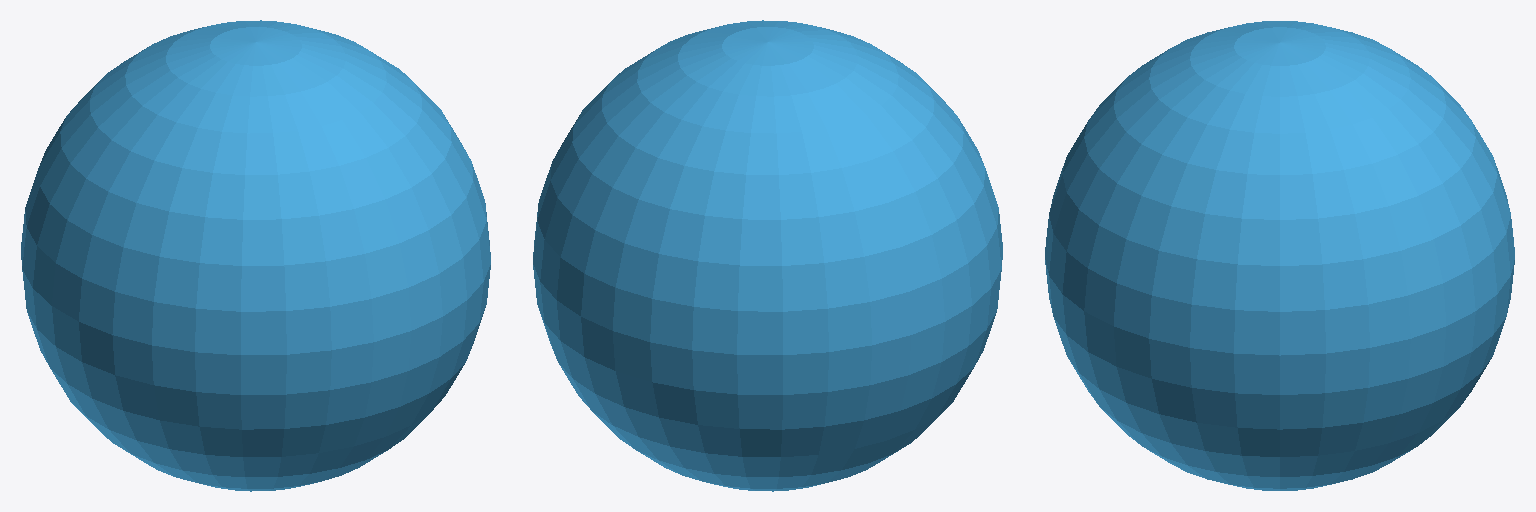
robot.urdf — holodeck:
<robot name="holodeck">
   <material name="Brown">
     <color rgba="83./255. 53./255. 10./255."/>
   </material>
   <material name="White">
     <color rgba="1 1 1"/>
   </material>
   <material name="Grey">
     <color rgba=".3 .3 .3"/>
   </material>
   <material name="Red">
     <color rgba="1 0 0"/>
   </material>
   <link name="world"/>

   <link name="ball">
   	<inertial>
   		<mass value=".5" />
   		<origin xyz="0 0 0" rpy="0 0 0"/>
		  <inertia ixx="10"  ixy="0"  ixz="0" iyy="10" iyz="0" izz="10" />
   	</inertial>
  	<visual>
      <origin xyz="0 0 0" rpy="0 0 0" />
      <geometry>
        <sphere radius="0.1"/>
      </geometry>
      <material name="Red"/>
    </visual>
    <collision>
      <origin xyz="0 0 0" rpy="0 0 0" />
      <geometry>
        <sphere radius="0.1"/>
      </geometry>
    </collision>
   </link>
   <joint name="ball_weld" type="fixed">
    <parent link="world"/>
      <child link="ball"/>
    <origin xyz="1.5 2 .75" rpy="0 0 0" />
   </joint>

</robot>

--- What the picture shows (computed from the rendered views, not written in the file) ---
The picture shows the robot from 3 angles, left to right: view 1: azimuth 30°, elevation 25°; view 2: azimuth 150°, elevation 25°; view 3: azimuth 270°, elevation 25°; orthographic projection.
Model holodeck with 2 links and 1 joints (1 fixed), rooted at world, posed all joints at 0.
Visible links, largest first — view 1: ball; view 2: ball; view 3: ball.
Boxes of the visible links, x1,y1,x2,y2 form: ball: [21, 20, 490, 491]; ball: [533, 20, 1002, 491]; ball: [1045, 21, 1514, 490].
Size in the robot's own frame: 0.2 by 0.2 by 0.2 metres.
Geometry: primitives only (box / cylinder / sphere), no mesh files.
